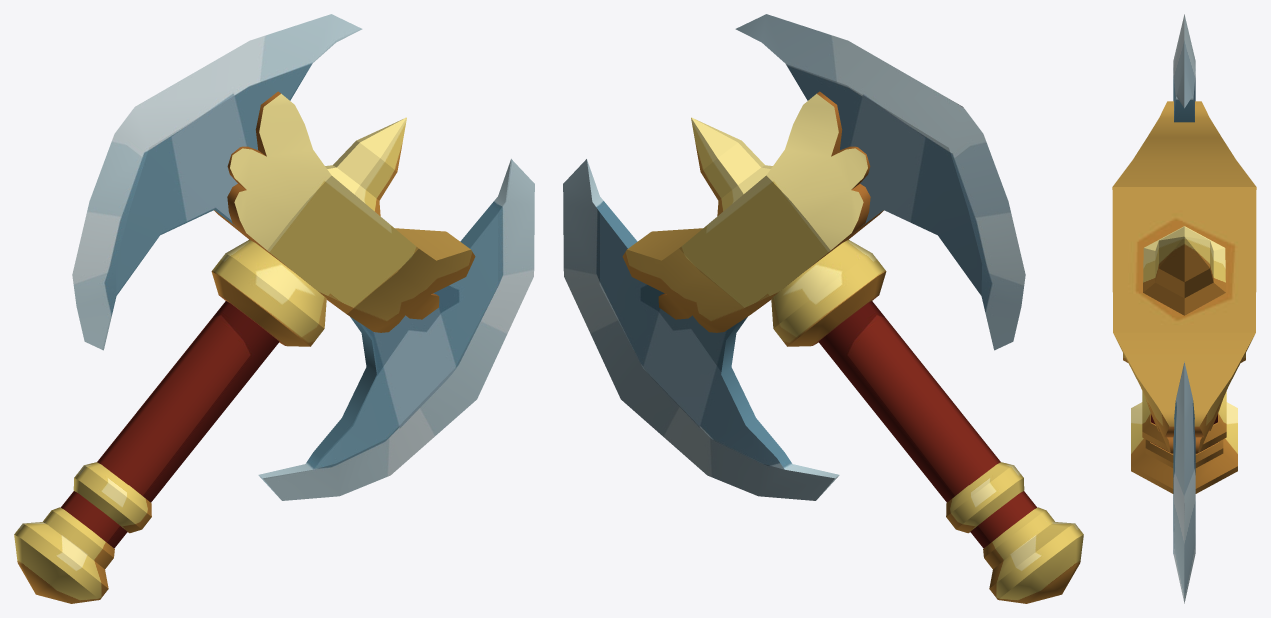
The model's file is Gold_03.FBX.
3 views of the same model, side by side, from view 1: azimuth 30°, elevation 25°; view 2: azimuth 150°, elevation 25°; view 3: azimuth 270°, elevation 25° (orthographic). The views are drawn at different scales.
Visible parts, largest first — view 1: Gold_03; view 2: Gold_03; view 3: Gold_03.
Boxes of the visible parts, <box> form: Gold_03: <box>14,14,534,603</box>; Gold_03: <box>563,14,1083,603</box>; Gold_03: <box>1112,14,1256,603</box>.
Bounding box in the file's own units: 63.4 × 61.79 × 14.52.
